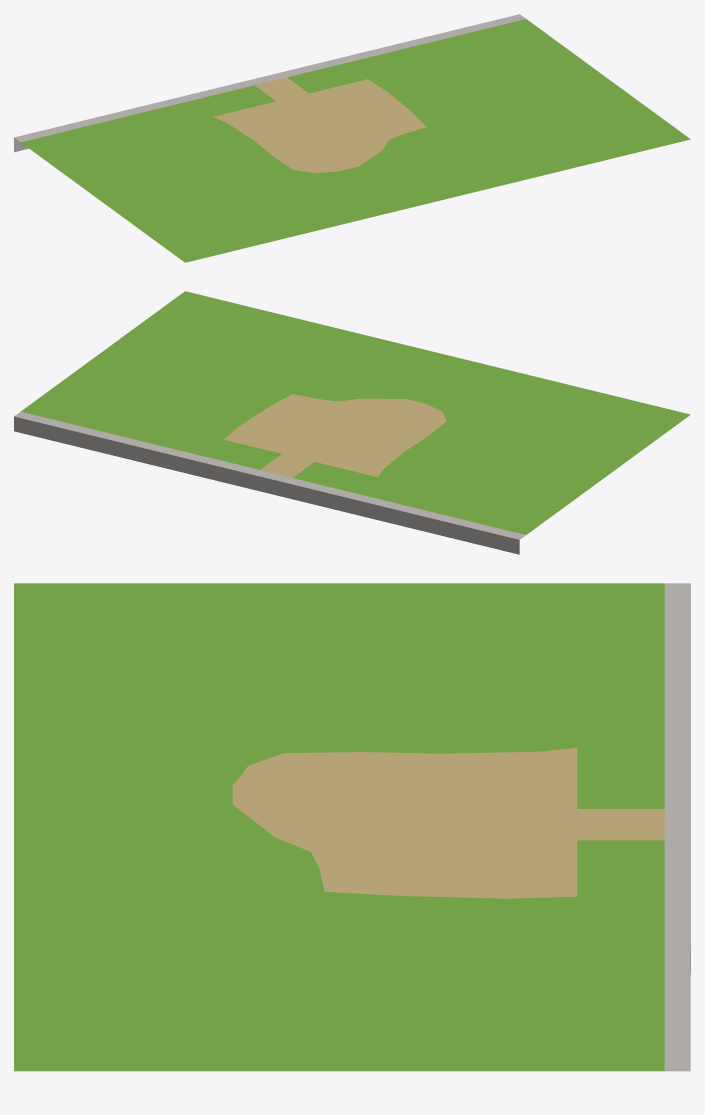
Rendered from Little_end.FBX.
3 views of the same model, one above another, from view 1: azimuth 30°, elevation 25°; view 2: azimuth 150°, elevation 25°; view 3: azimuth 270°, elevation 25° (orthographic). The views are drawn at different scales.
Visible parts, largest first — view 1: Little_end; view 2: Little_end; view 3: Little_end.
Part boxes in pixels (box(x1,y1,x2,y2)): Little_end: box(14, 14, 690, 262); Little_end: box(14, 291, 690, 554); Little_end: box(14, 583, 690, 1071).
Bounding box in the file's own units: 19029 × 536 × 11159.
